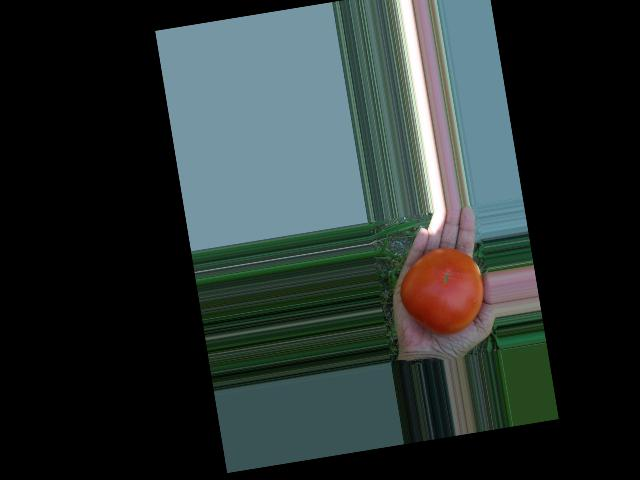tomato: (393, 242, 489, 340)
